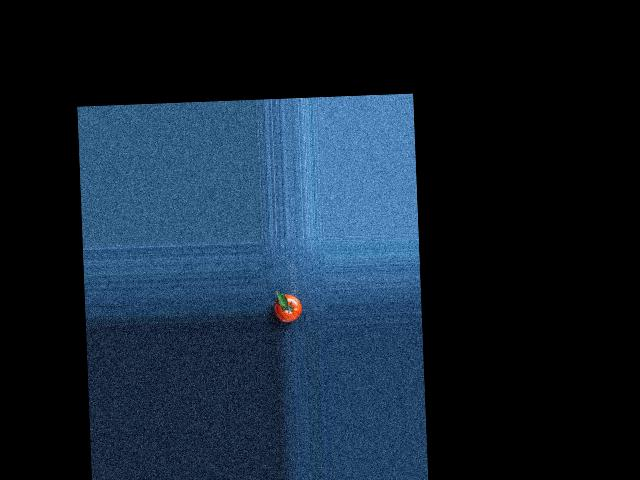tomato: (273, 293, 301, 322)
